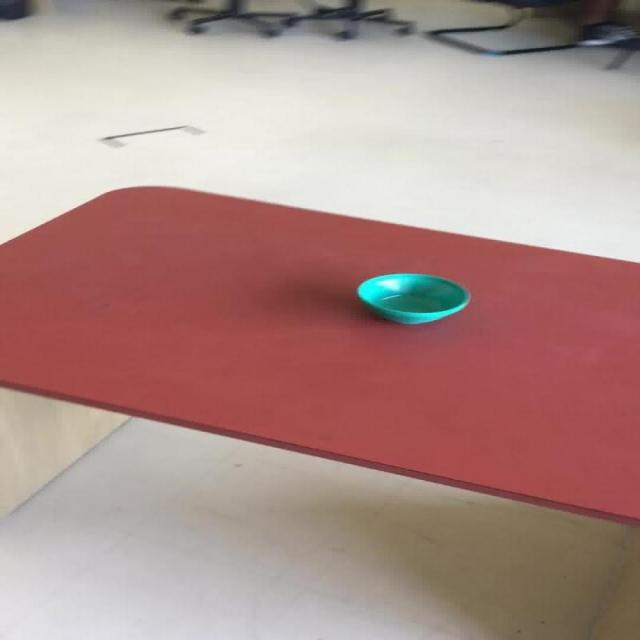Bowl: (356, 272, 471, 324)
